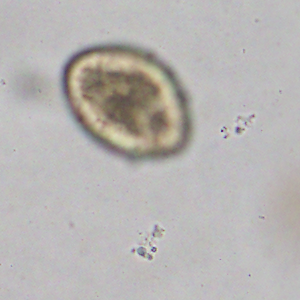Fasciola_hepatica_egg: (60, 43, 192, 160)
